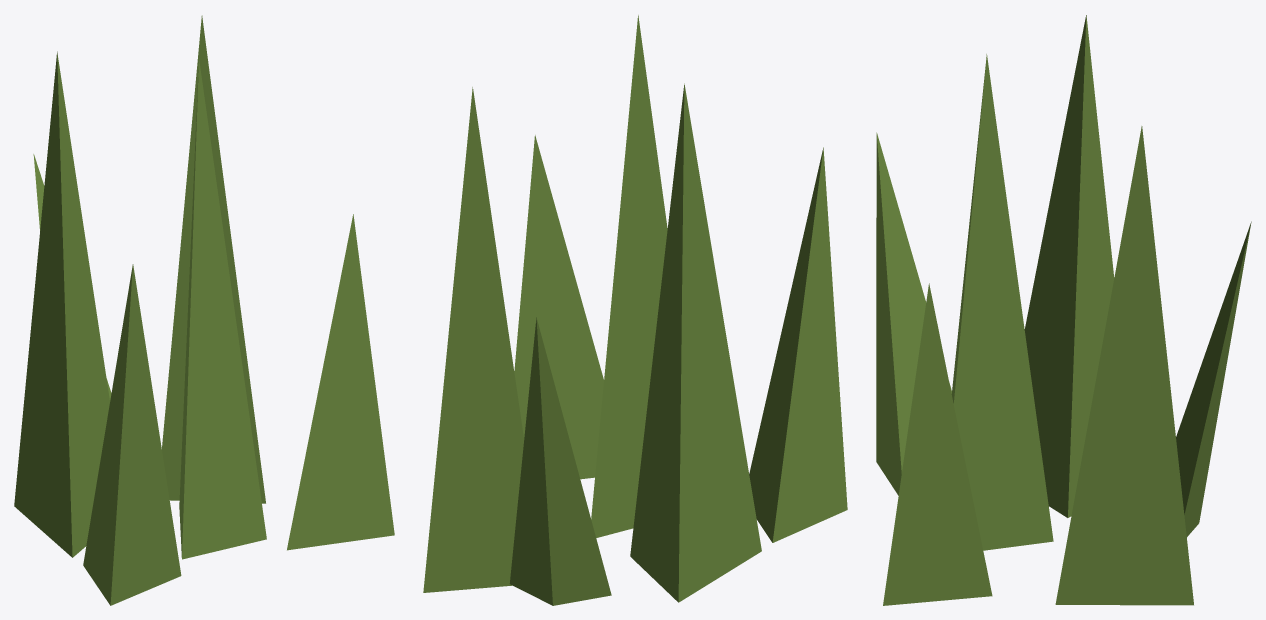
The model's file is grass_5.fbx.
3 renders of one model, left to right at view 1: azimuth 30°, elevation 25°; view 2: azimuth 150°, elevation 25°; view 3: azimuth 270°, elevation 25°, orthographic. The views are drawn at different scales.
Parts seen in each view (by area): view 1: Grass_05; view 2: Grass_05; view 3: Grass_05.
Boxes of the visible parts, box(x1,y1,x2,y2) form: Grass_05: box(14, 15, 394, 605); Grass_05: box(423, 15, 847, 605); Grass_05: box(876, 15, 1251, 605).
Size of the model in its own units: 136 by 224 by 152.
Materials: 1 (1 with a texture image).
